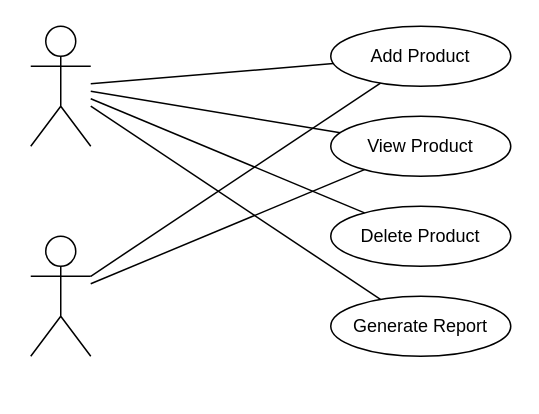
This 539x414 diagram has some shape labels left out. Each missing label, with the centre of its shape:
Admin: the point at 60,85
Manager: the point at 60,295
